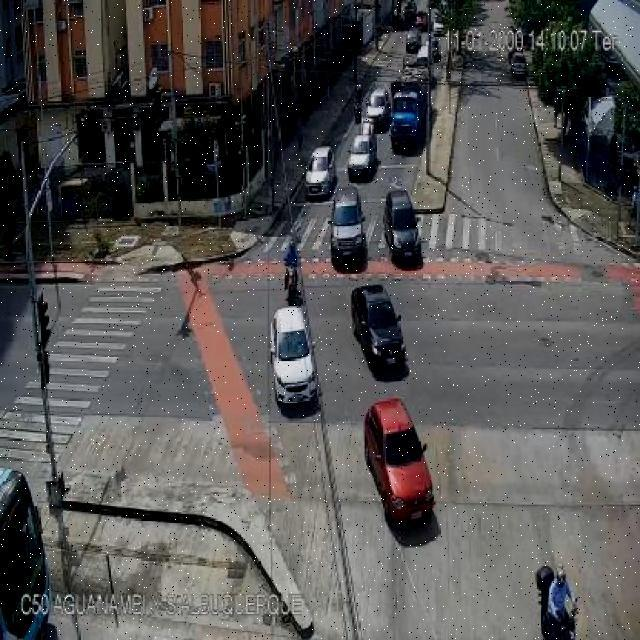Car: (363, 398, 436, 530), (269, 306, 319, 410), (351, 284, 407, 372), (329, 187, 367, 270), (383, 188, 422, 266), (304, 146, 337, 198), (348, 130, 378, 180), (364, 86, 392, 131), (509, 50, 527, 79), (406, 28, 422, 54), (431, 8, 445, 36), (415, 10, 428, 32)
Truck: (389, 67, 433, 152)
